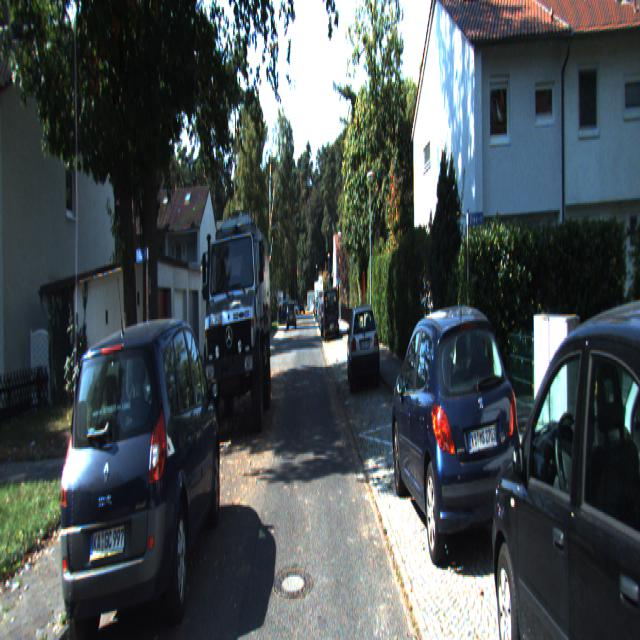Car: (62, 316, 224, 638), (486, 304, 639, 638), (390, 308, 526, 593), (204, 212, 272, 431), (346, 302, 381, 394), (322, 286, 339, 340), (286, 302, 297, 331)
